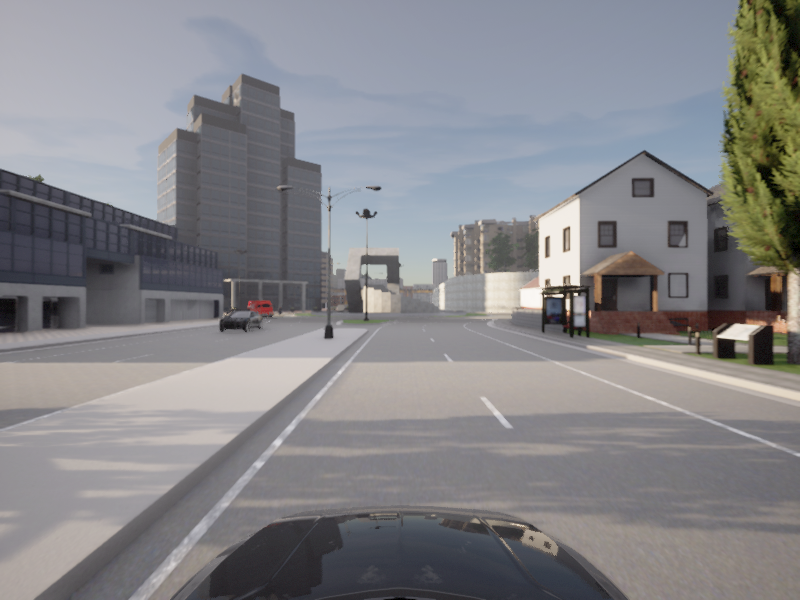vehicle: (213, 308, 266, 333)
